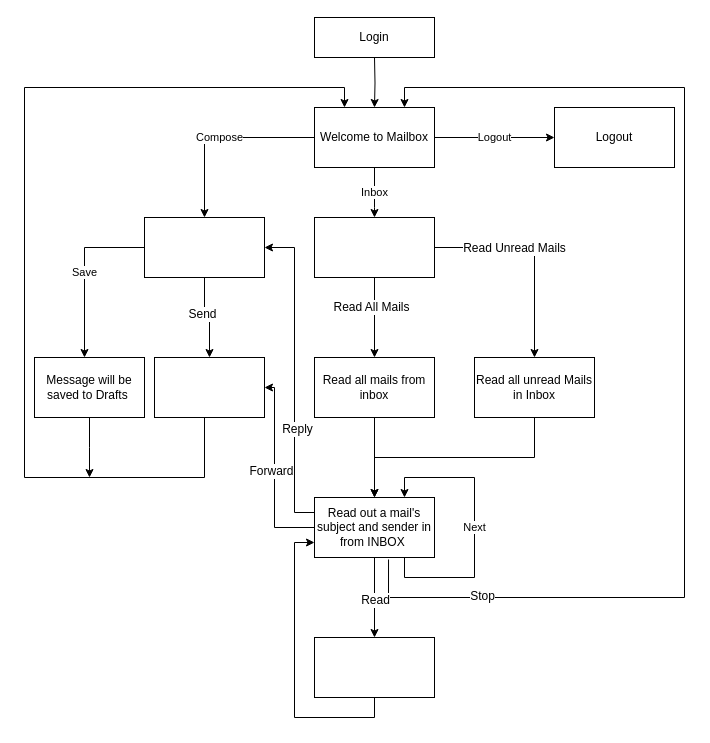
This 710x743 diagram has some shape labels left out. Each missing label, with the box of its shape:
Enter your message and choose save or send: (144, 216, 264, 278)
Message will be sent to recipient: (154, 356, 264, 418)
Read Inbox: (314, 216, 434, 278)
Read out the entire content of the mail: (314, 636, 434, 698)
